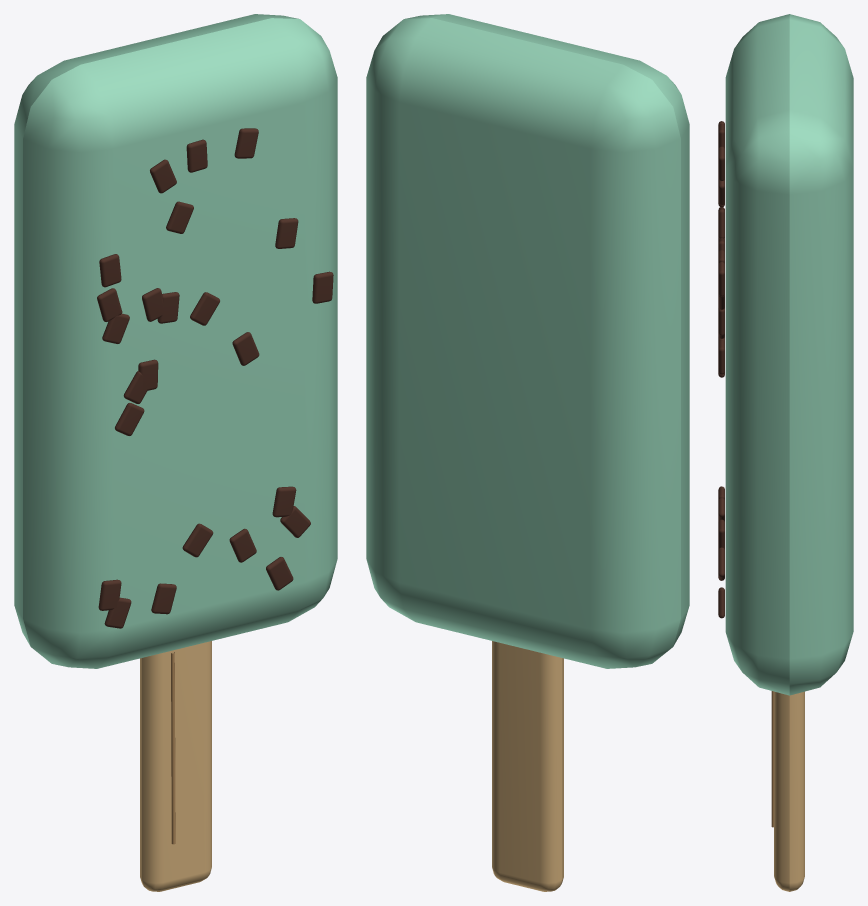
Rendered from icecream_mint_chocolate.glb.
3 renders of one model, left to right at view 1: azimuth 30°, elevation 25°; view 2: azimuth 150°, elevation 25°; view 3: azimuth 270°, elevation 25°, orthographic. The views are drawn at different scales.
Parts seen in each view (by area): view 1: Frozen cream body.002, Thin wooden stick.002, Wood grain.002; view 2: Frozen cream body.002, Thin wooden stick.002; view 3: Frozen cream body.002, Thin wooden stick.002, Wood grain.002.
Boxes of the visible parts, x1,y1,x2,y2 form: Frozen cream body.002: [14, 14, 337, 668]; Thin wooden stick.002: [140, 641, 211, 891]; Wood grain.002: [171, 652, 175, 844]; Frozen cream body.002: [366, 14, 689, 668]; Thin wooden stick.002: [492, 641, 563, 891]; Frozen cream body.002: [725, 14, 853, 695]; Thin wooden stick.002: [774, 691, 804, 891]; Wood grain.002: [771, 691, 773, 827].
Bounding box in the file's own units: 0.72 × 1.9 × 0.285.
